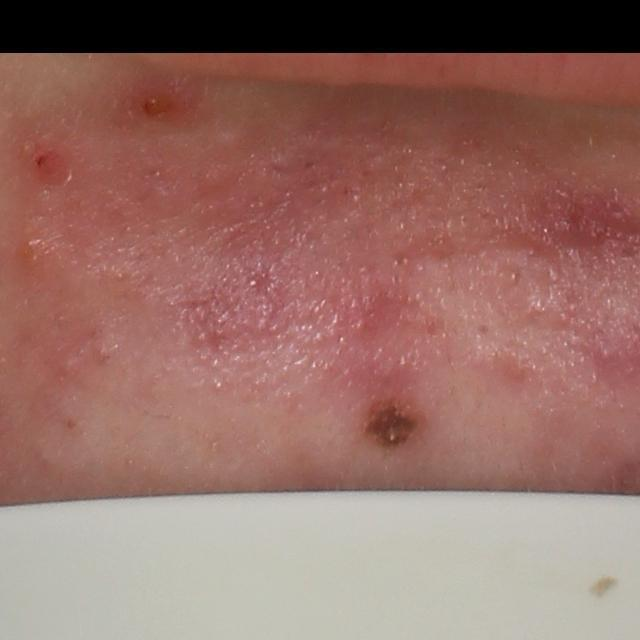atrophic_scar: (268, 160, 296, 180)
nevus: (371, 409, 416, 448)
papule: (125, 85, 194, 121), (18, 143, 65, 183), (18, 232, 61, 272), (56, 349, 89, 380)
